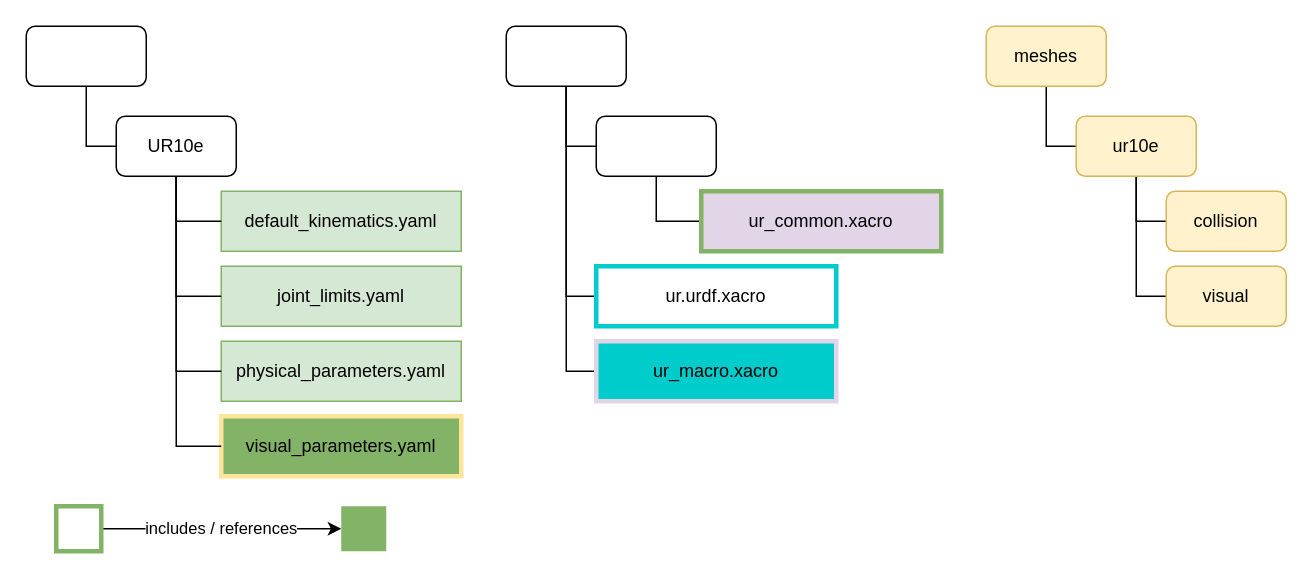
Image size: 1313x579. Some labels were removed from this diagram. The centre of each missing label's shape, as x and y in pixels:
"config" goes at pixel 85 55.
"inc" goes at pixel 655 145.
"urdf" goes at pixel 565 55.
